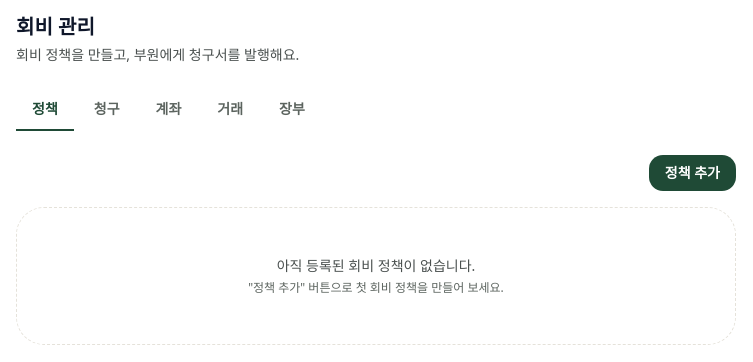
Test: ClubFeesPage 거래 탭 게이팅 › 자동매칭 미사용(enabled=false) 이면 안내 카드를 노출하고 동기화 버튼을 숨긴다
Click the tab "거래" at x=230, y=110, box [201, 89, 259, 131]
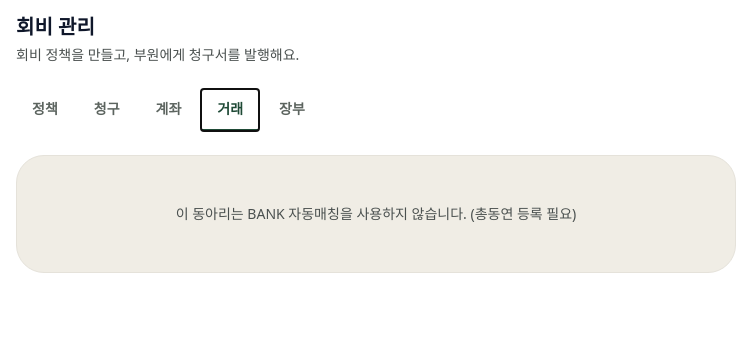
Now the text "이 동아리는 BANK 자동매칭을 사용하지 않습니다. (총동연 등록 필요)" is shown, box [176, 204, 576, 223]
